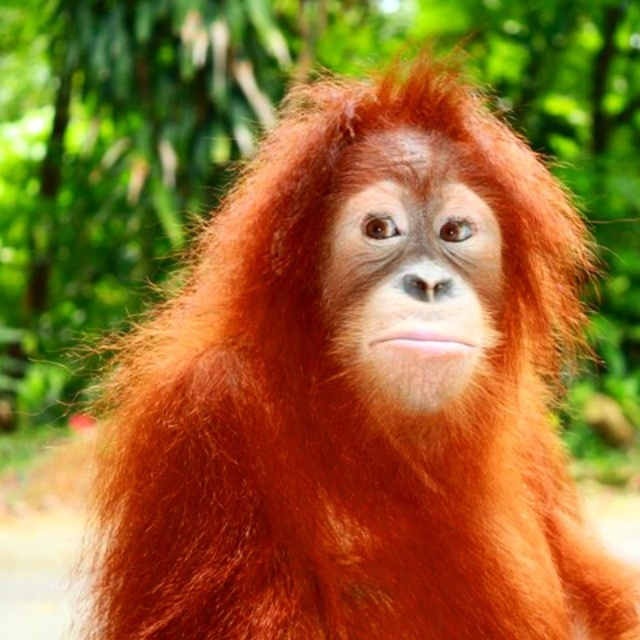Monkey: (42, 39, 640, 640)
